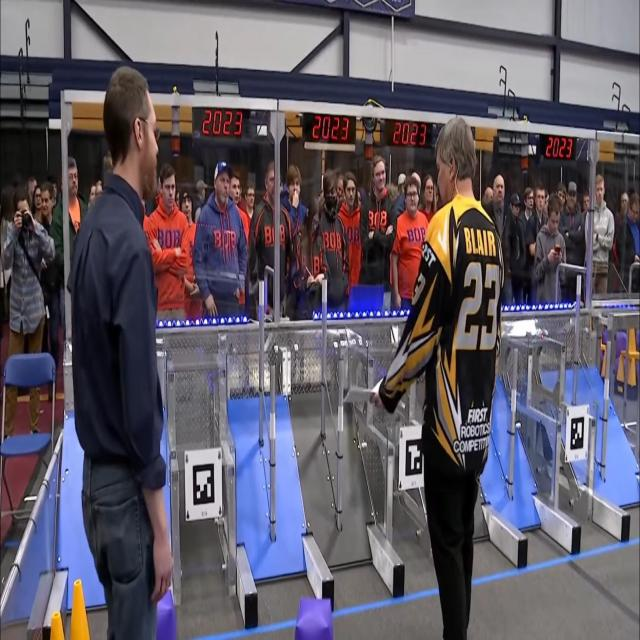frc_cone: (66, 567, 104, 640), (45, 610, 69, 640), (608, 335, 621, 382), (598, 329, 610, 373), (610, 298, 620, 330)
frc_cube: (148, 589, 177, 640), (294, 602, 332, 640), (618, 340, 632, 362), (596, 306, 610, 325), (629, 338, 638, 364), (627, 307, 636, 324), (593, 327, 602, 344)
